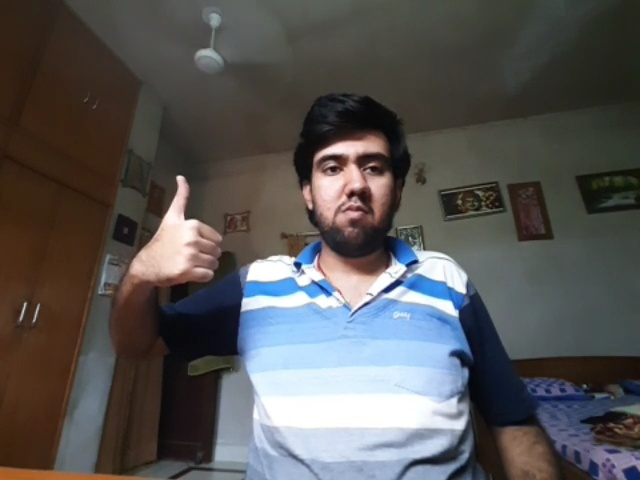Ok: (151, 174, 223, 285)
